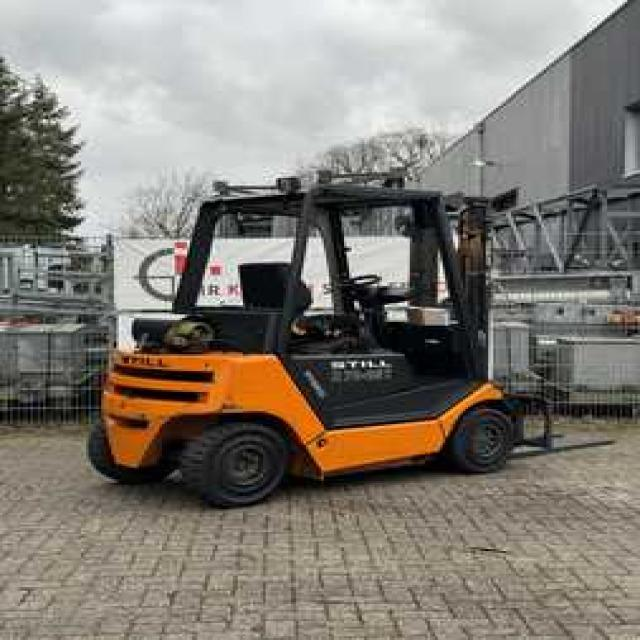forklift: (80, 162, 526, 516)
